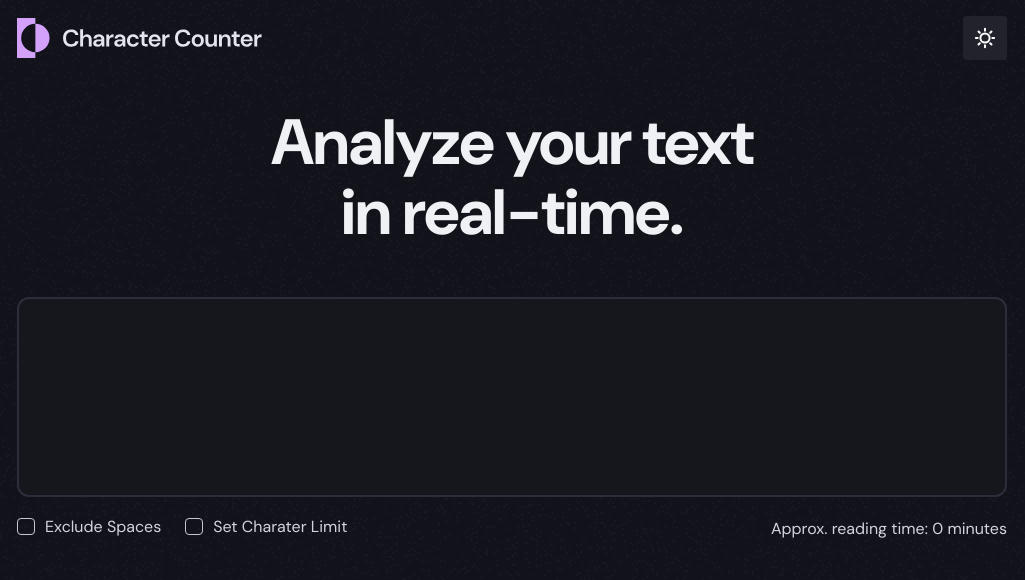
Test: Character limit › should have exclude space checked on and render the exceed error message when the limit is reached with the exceed error message showing -59 characters
Click the checkbox labelled "Set Charater Limit".
click(194, 527)  # box [185,518,203,536]
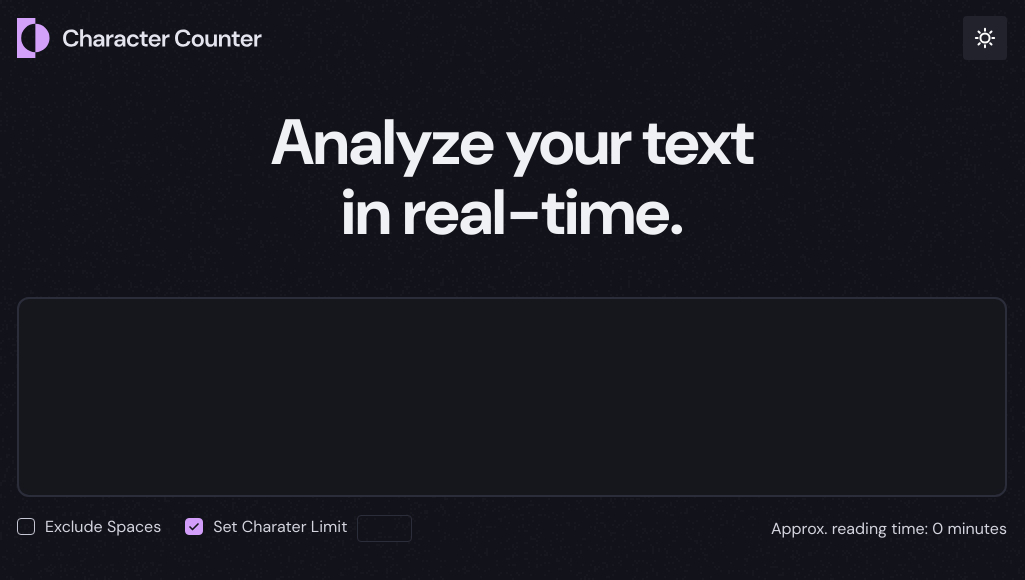
Click the checkbox labelled "Exclude Spaces".
click(26, 527)  # box [17,518,35,536]
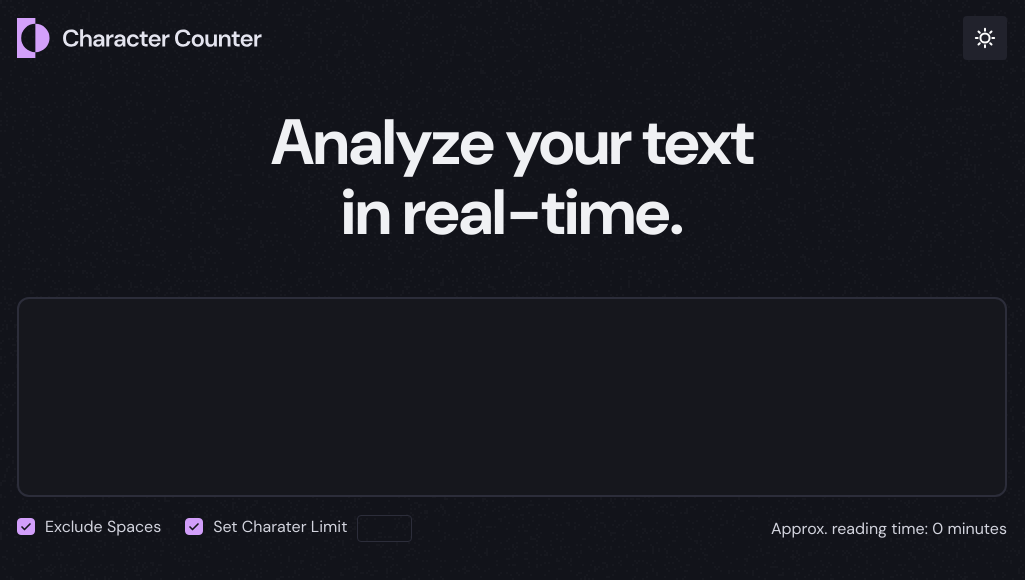
Type "10" into the field.
click(385, 529); type("10")  # box [357,515,412,543]
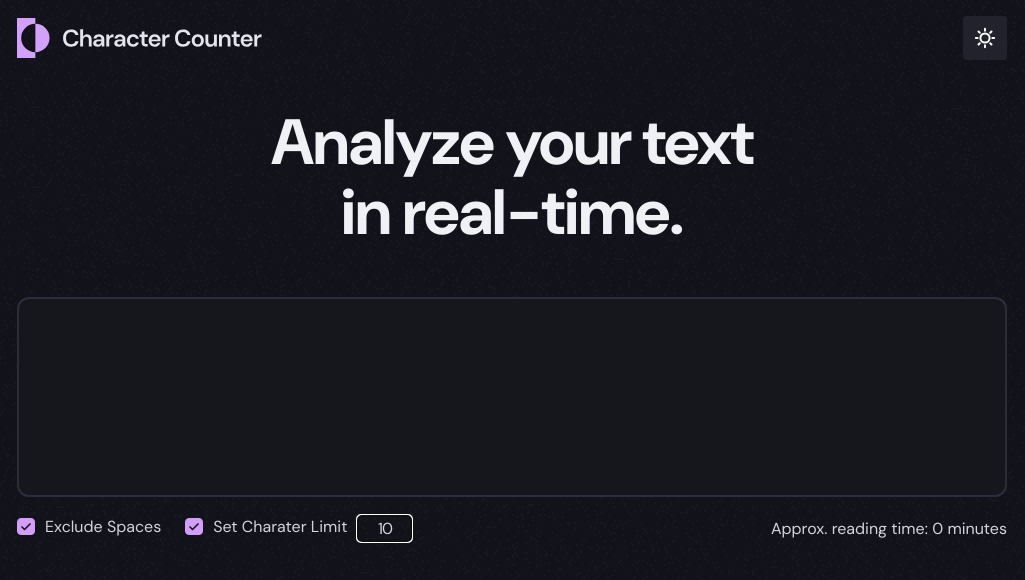
Type "Lorem ipsum dolor sit? Amet consectetur! Adipisicing elit. Odit, consequuntur." into the text box with test id "text-area-input".
click(512, 397); type("Lorem ipsum dolor sit? Amet consectetur! Adipisicing elit. Odit, consequuntur.")  # box [17,297,1007,497]
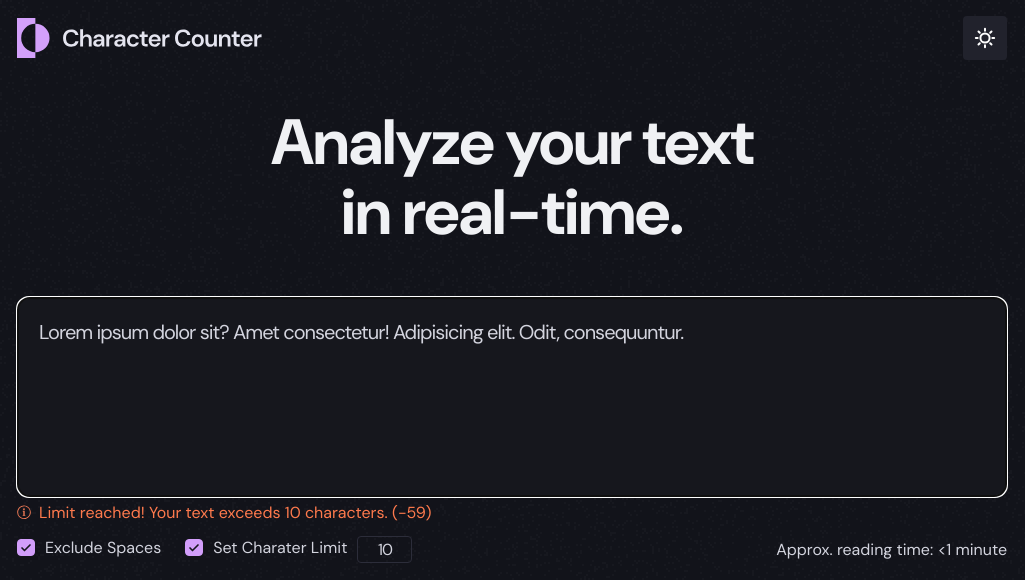
Expected: the element with test id "exceed-error" reads "Limit reached! Your text exceeds 10 characters. (-59)", [17,502,431,523]
